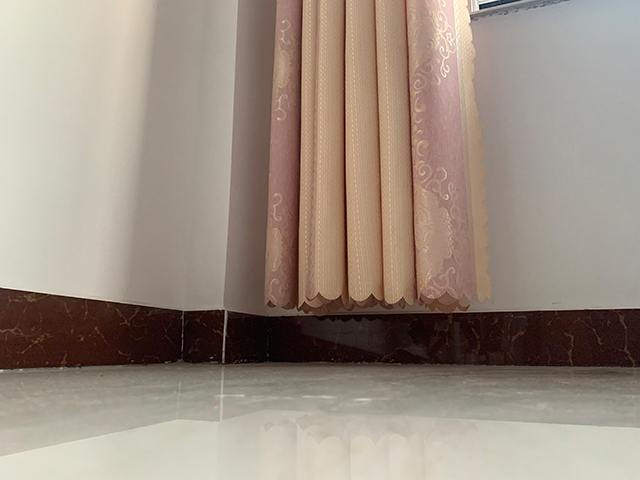curtain: (261, 1, 489, 315)
